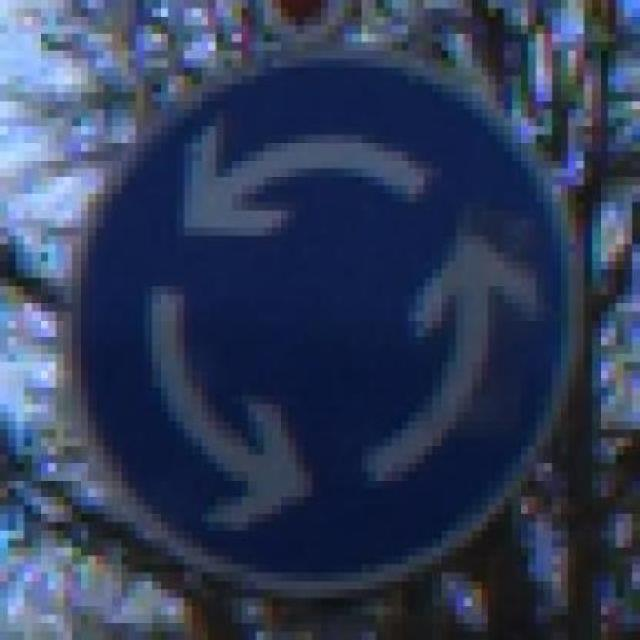Round-About: (48, 42, 600, 606)
